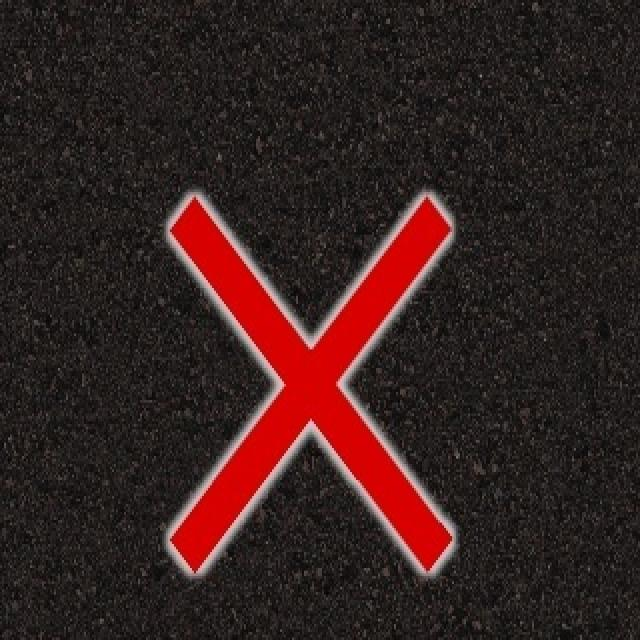x_marker: (169, 196, 451, 569)
